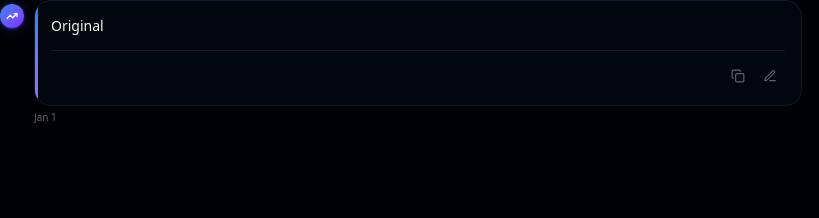
ChatMessage — edit mode › cancels edit mode and restores content when Cancel is clicked
This screenshot has width=819, height=218.
Click the button titled "Edit message": (770, 76) [755,61,785,91]
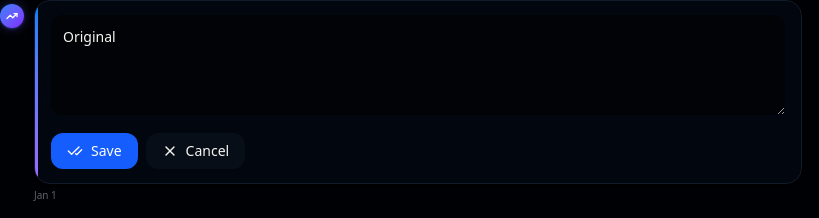
expect the text box is shown: met, box [51,15,785,115]
Click the button "Cancel": (195, 151) [146,133,245,169]
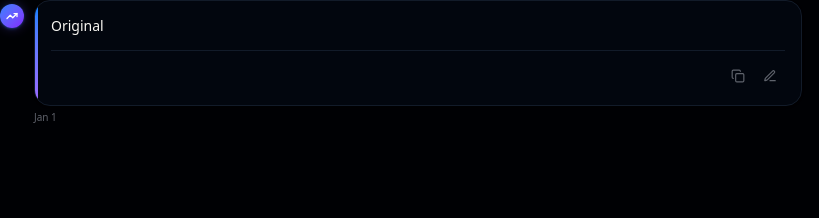
expect the text "Original" is shown: met, box [51,16,104,35]
